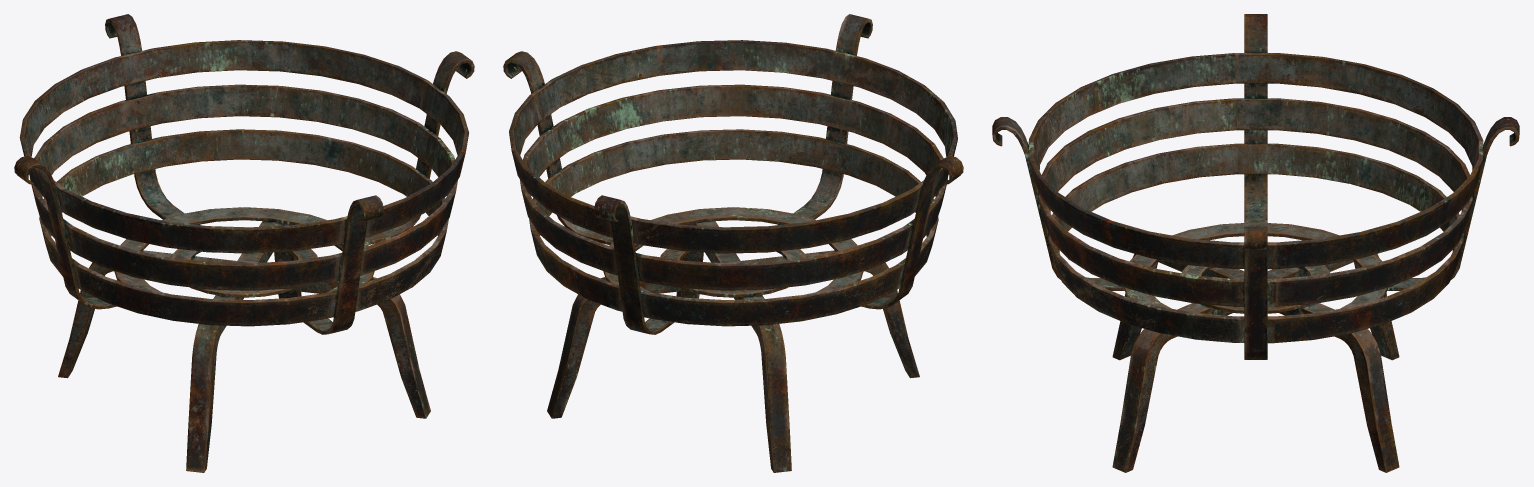
File: SM_Brazier_03.fbx
3 renders of one model, left to right at view 1: azimuth 30°, elevation 25°; view 2: azimuth 150°, elevation 25°; view 3: azimuth 270°, elevation 25°, orthographic.
Visible parts, largest first — view 1: SM_Brazier_03_LOD0; view 2: SM_Brazier_03_LOD0; view 3: SM_Brazier_03_LOD0.
Part boxes in pixels (<box>): SM_Brazier_03_LOD0: <box>14,14,474,472</box>; SM_Brazier_03_LOD0: <box>503,14,963,472</box>; SM_Brazier_03_LOD0: <box>992,14,1519,472</box>.
Size of the model in its own units: 108 by 108 by 65.92.
